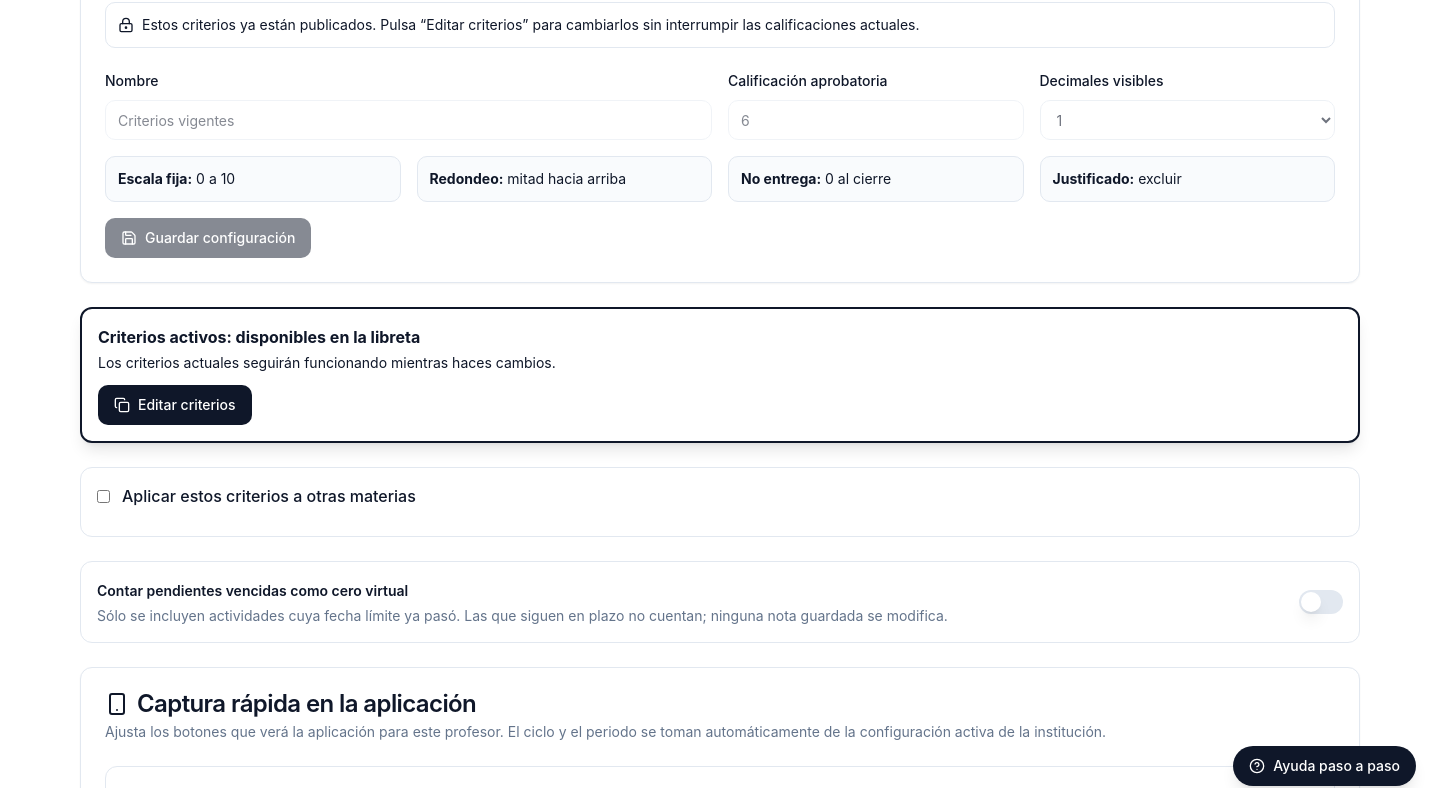
it: Paso 10: interfaz administrativa accesible › muestra la versión activa aunque exista un borrador y mantiene claro cuál se aplica
(page scrolled)
Expected: the field labelled "Nombre" holds "Criterios vigentes", [105,100,712,140]
Click the button "Editar criterios". click: (175, 405)
box: [98,385,252,425]
(page scrolled)
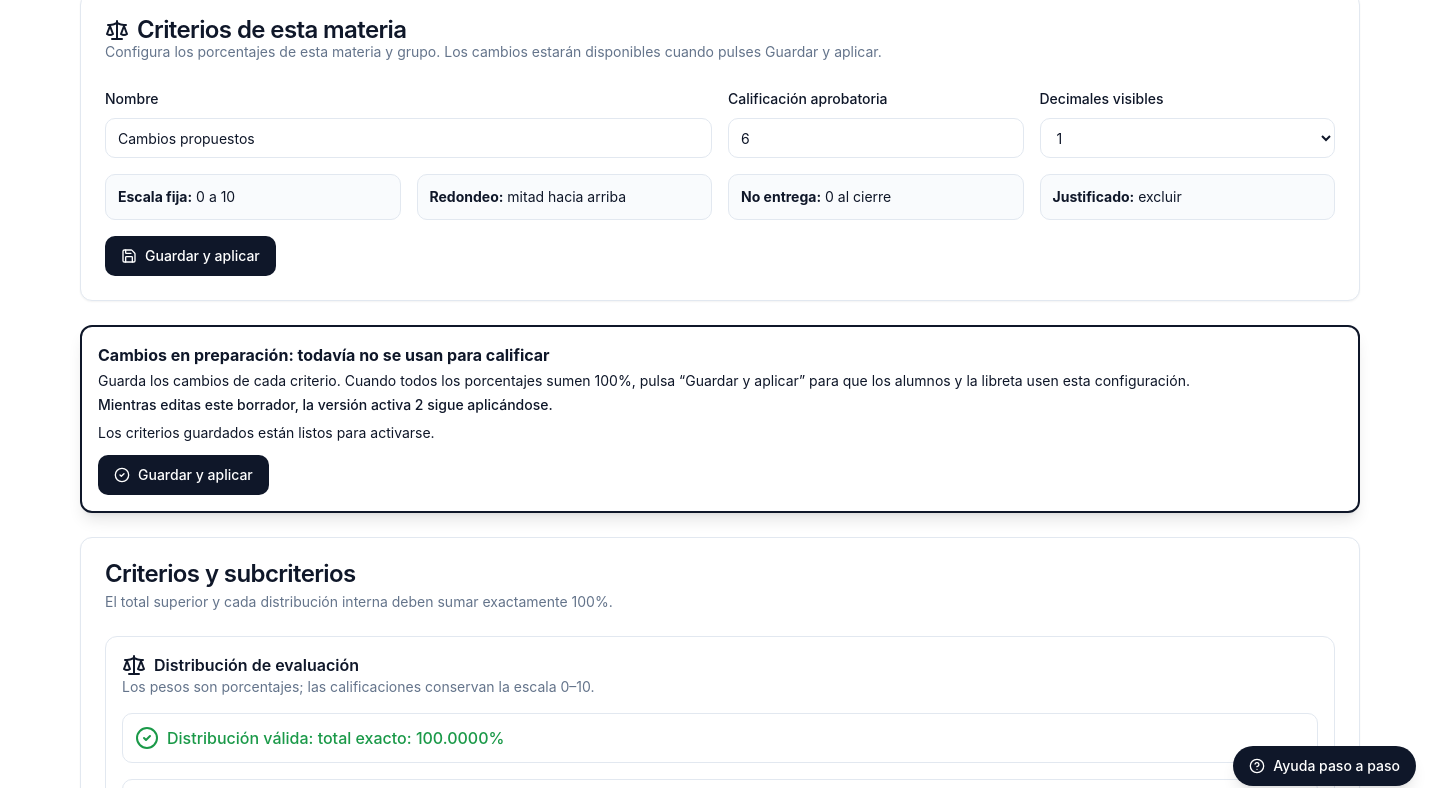
Expected: the field labelled "Nombre" holds "Cambios propuestos", [105,118,712,158]
Expected: the text "Mientras editas este borrador, la versión activa 2 sigue aplicándose." is shown, [98,396,553,413]
